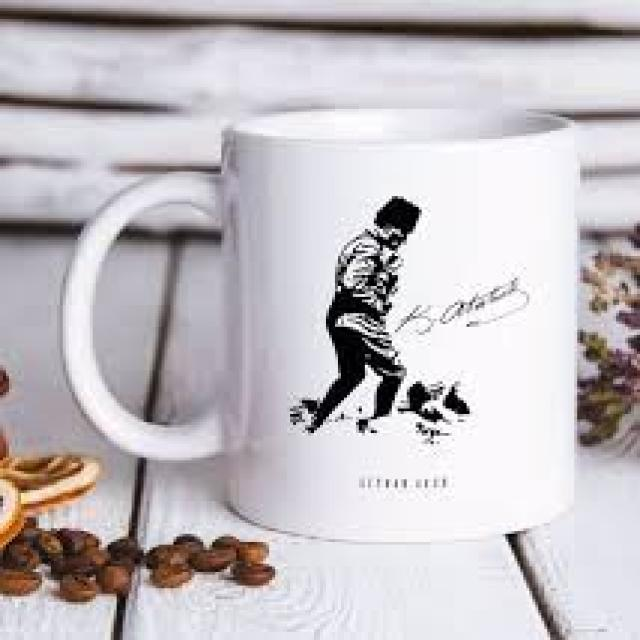taza: (60, 106, 578, 546)
